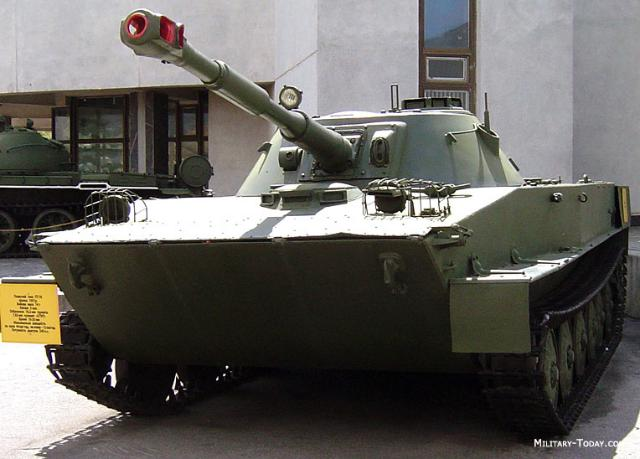tank: (88, 106, 628, 425)
